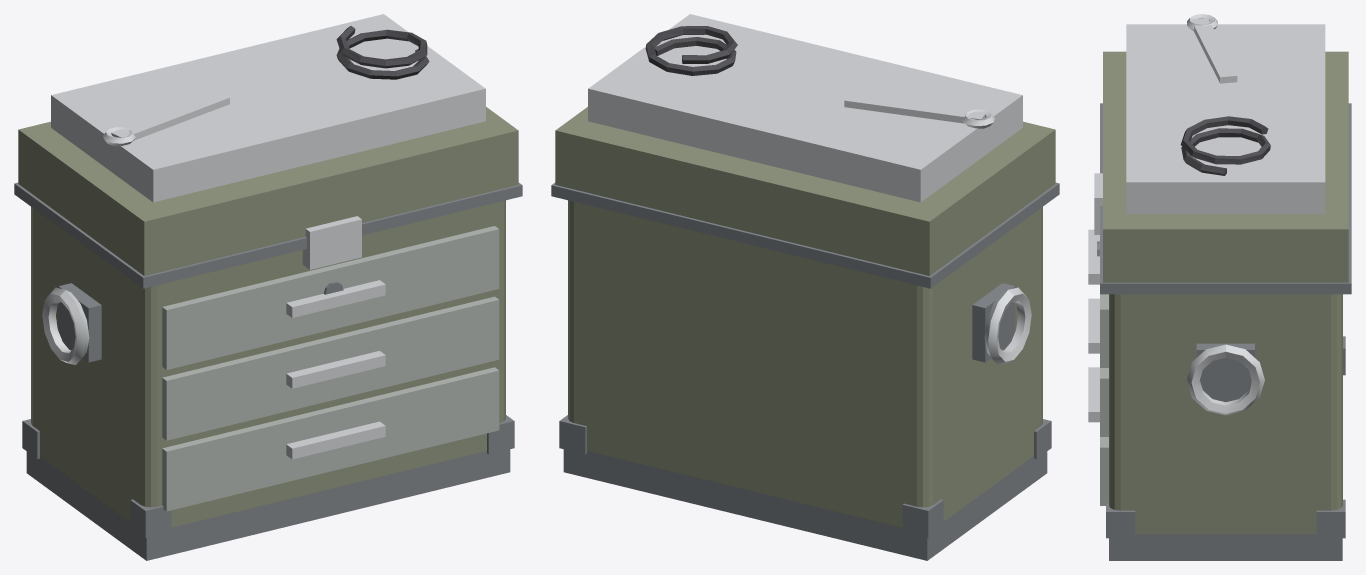
File: cold-war-missile-silo-and-command-bunker-tool-chest-dc16b68d__15703.glb
3 views of the same model, side by side, from view 1: azimuth 30°, elevation 25°; view 2: azimuth 150°, elevation 25°; view 3: azimuth 270°, elevation 25° (orthographic). The views are drawn at different scales.
Parts seen in each view (by area): view 1: tool-chest; view 2: tool-chest; view 3: tool-chest.
Boxes of the visible parts, bbox=[...] form: tool-chest: bbox=[14, 14, 522, 560]; tool-chest: bbox=[551, 14, 1059, 560]; tool-chest: bbox=[1088, 14, 1351, 560].
Size of the model in its own units: 0.8028 by 0.7489 by 0.45.
